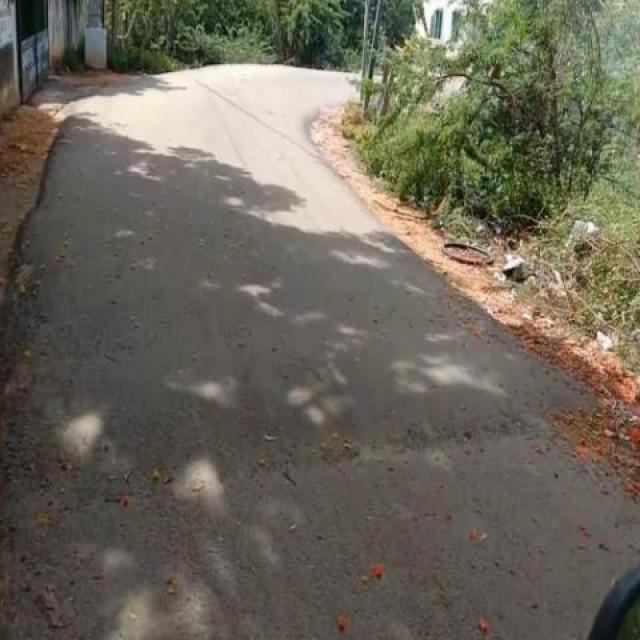Unmarked Bump: (1, 332, 598, 463)
